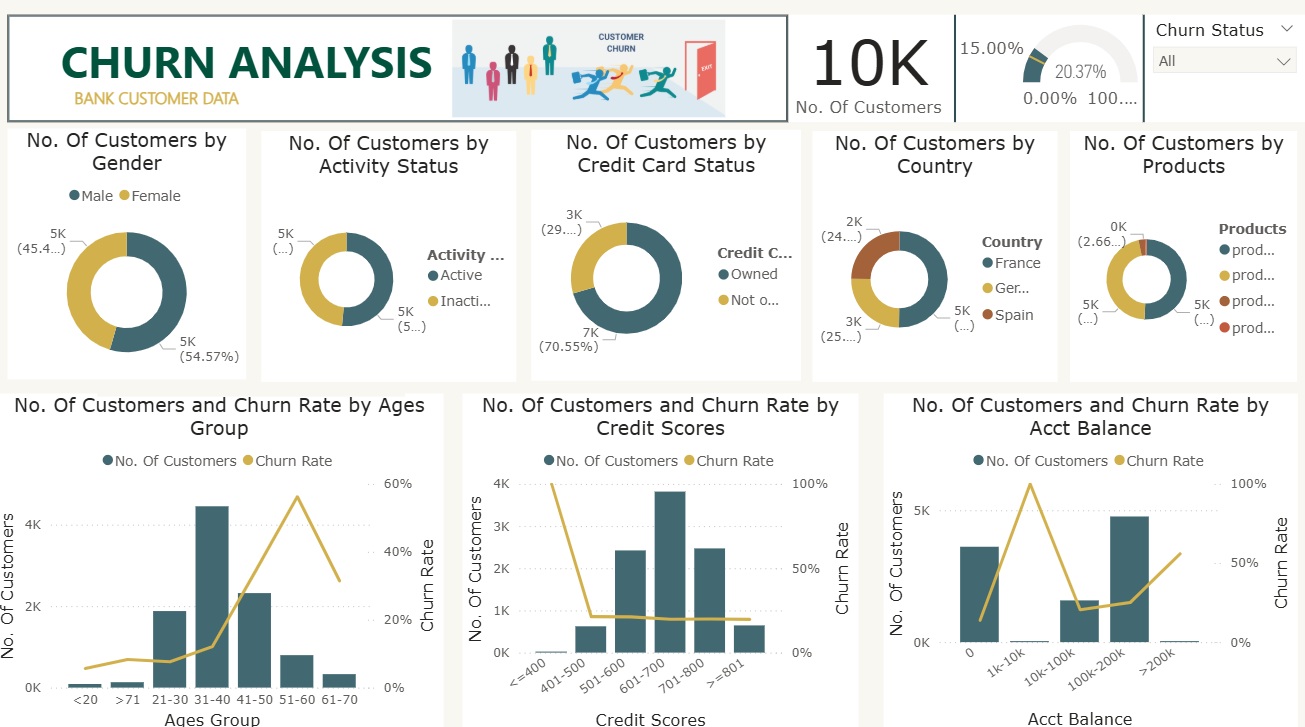

The dashboard page shown, as its layout file describes it:
{"tool":"powerbi","page":{"name":"Page 1","canvas":[1280,720],"ordinal":0},"visuals":[{"type":"shape","box":[12.2,18.3,761.8,105.2],"z":0},{"type":"card","fields":{"Values":["Customer Data.Customers"]},"box":[774.1,18.3,156.5,105.2],"z":1000},{"type":"donutChart","fields":{"Category":["Customer Data.Gender"],"Y":["Customer Data.Customers"]},"box":[12.2,129.3,232.9,245.1],"z":2000},{"type":"donutChart","fields":{"Category":["Customer Data.Activity Status"],"Y":["Customer Data.Customers"]},"box":[259.8,131.7,248.8,245.1],"z":3000},{"type":"donutChart","fields":{"Category":["Customer Data.Credit Card Status"],"Y":["Customer Data.Customers"]},"box":[523.2,130.5,263.4,245.1],"z":4000},{"type":"donutChart","fields":{"Category":["Customer Data.Country"],"Y":["Customer Data.Customers"]},"box":[797.6,131.7,239,245.1],"z":5000},{"type":"donutChart","fields":{"Category":["Customer Data.Products"],"Y":["Customer Data.Customers"]},"box":[1048.8,131.7,222,245.1],"z":6000},{"type":"lineClusteredColumnComboChart","fields":{"Category":["Age Groups.Ages Group"],"Y":["Customer Data.Customers"],"Y2":["Customer Data.Churn Rate"]},"box":[0,388.3,437.7,332.1],"z":7000},{"type":"lineClusteredColumnComboChart","fields":{"Category":["Credir Score Groups.Credit Scores"],"Y":["Customer Data.No. Of Customers"],"Y2":["Customer Data.Churn Rate"]},"box":[456.1,387.8,386.6,332.9],"z":8000},{"type":"slicer","fields":{"Values":["Customer Data.Churn Status"]},"box":[1120.1,18.3,160.2,105.2],"z":9000},{"type":"lineClusteredColumnComboChart","fields":{"Category":["Acct Balance Groups.Acct Balance"],"Y":["Customer Data.No. Of Customers"],"Y2":["Customer Data.Churn Rate"]},"box":[867.1,387.8,403.7,331.7],"z":10000},{"type":"gauge","fields":{"Y":["Customer Data.Churn Rate"],"MinValue":["Min(Customer Data.Min Churn Rate)"],"MaxValue":["Max(Customer Data.Max Churn Rate )"],"TargetValue":["Max(Customer Data.Target Churn Rate)"]},"box":[930.6,18.3,189.5,105.2],"z":11000},{"type":"textbox","box":[22.5,27.5,501.2,65],"z":12000},{"type":"textbox","box":[22,82.4,271.4,31.9],"z":13000},{"type":"textbox","box":[100,380,300,8.8],"z":14000},{"type":"shape","box":[786.6,18.3,300,104.9],"z":15000},{"type":"shape","box":[970.7,18.3,300,104.9],"z":16000},{"type":"image","box":[429.3,18.3,300,104.9],"z":17000}]}

Visuals, with their boxes in screenshot pixels (x1, y1, x2, y2), scaled from the page's 1280x720 canvas onto the 1305x727 screenshot:
shape: [left=12, top=18, right=789, bottom=125]
card - Customer Data.Customers: [left=789, top=18, right=949, bottom=125]
donutChart - Customer Data.Gender x Customer Data.Customers: [left=12, top=131, right=250, bottom=378]
donutChart - Customer Data.Activity Status x Customer Data.Customers: [left=265, top=133, right=519, bottom=380]
donutChart - Customer Data.Credit Card Status x Customer Data.Customers: [left=533, top=132, right=802, bottom=379]
donutChart - Customer Data.Country x Customer Data.Customers: [left=813, top=133, right=1057, bottom=380]
donutChart - Customer Data.Products x Customer Data.Customers: [left=1069, top=133, right=1296, bottom=380]
lineClusteredColumnComboChart - Age Groups.Ages Group x Customer Data.Customers: [left=0, top=392, right=446, bottom=726]
lineClusteredColumnComboChart - Credir Score Groups.Credit Scores x Customer Data.No. Of Customers: [left=465, top=392, right=859, bottom=726]
slicer - Customer Data.Churn Status: [left=1142, top=18, right=1304, bottom=125]
lineClusteredColumnComboChart - Acct Balance Groups.Acct Balance x Customer Data.No. Of Customers: [left=884, top=392, right=1296, bottom=726]
gauge - Customer Data.Churn Rate x Min(Customer Data.Min Churn Rate): [left=949, top=18, right=1142, bottom=125]
textbox: [left=23, top=28, right=534, bottom=93]
textbox: [left=22, top=83, right=299, bottom=115]
textbox: [left=102, top=384, right=408, bottom=393]
shape: [left=802, top=18, right=1108, bottom=124]
shape: [left=990, top=18, right=1296, bottom=124]
image: [left=438, top=18, right=744, bottom=124]
